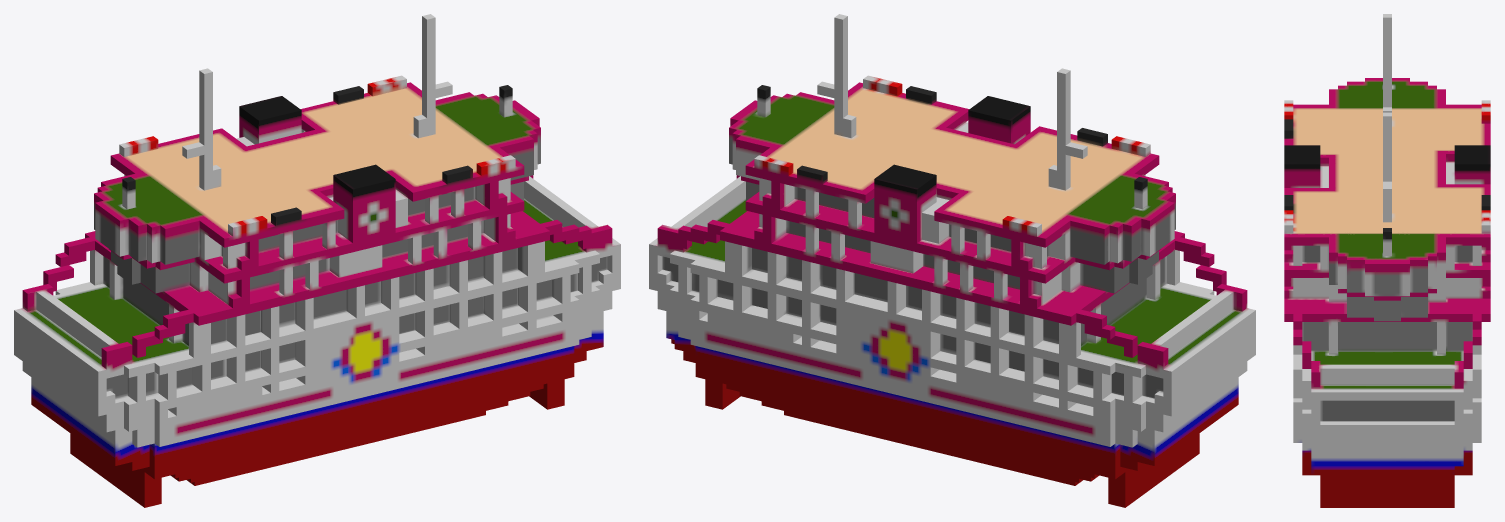
File: sakurajimaferry.glb
The picture shows the model from 3 angles, left to right: view 1: azimuth 30°, elevation 25°; view 2: azimuth 150°, elevation 25°; view 3: azimuth 270°, elevation 25°; orthographic projection. The views are drawn at different scales.
Visible parts, largest first — view 1: sakurajimaferry; view 2: sakurajimaferry; view 3: sakurajimaferry.
Part boxes in pixels (bbox=[...]): sakurajimaferry: bbox=[14, 14, 620, 507]; sakurajimaferry: bbox=[649, 14, 1255, 507]; sakurajimaferry: bbox=[1284, 14, 1490, 507].
Bounding box in the file's own units: 1.22 × 0.86 × 0.46.
1 material, 1 textured.
